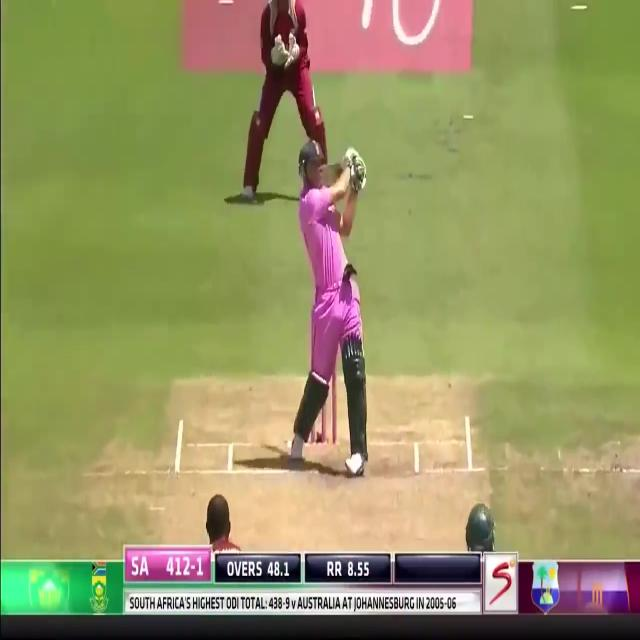Ball: (289, 135, 367, 468)
